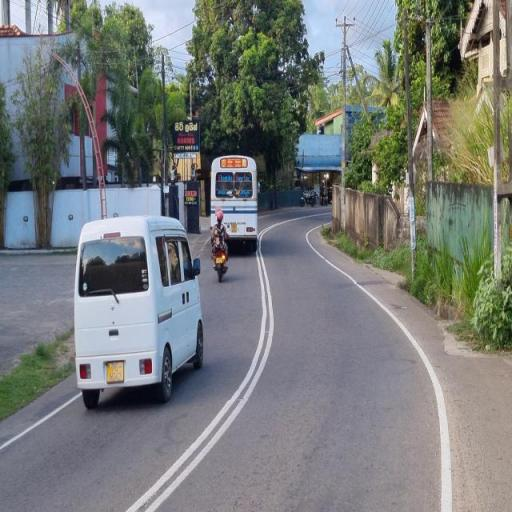double_white_line: (124, 220, 274, 510), (0, 391, 78, 451)
